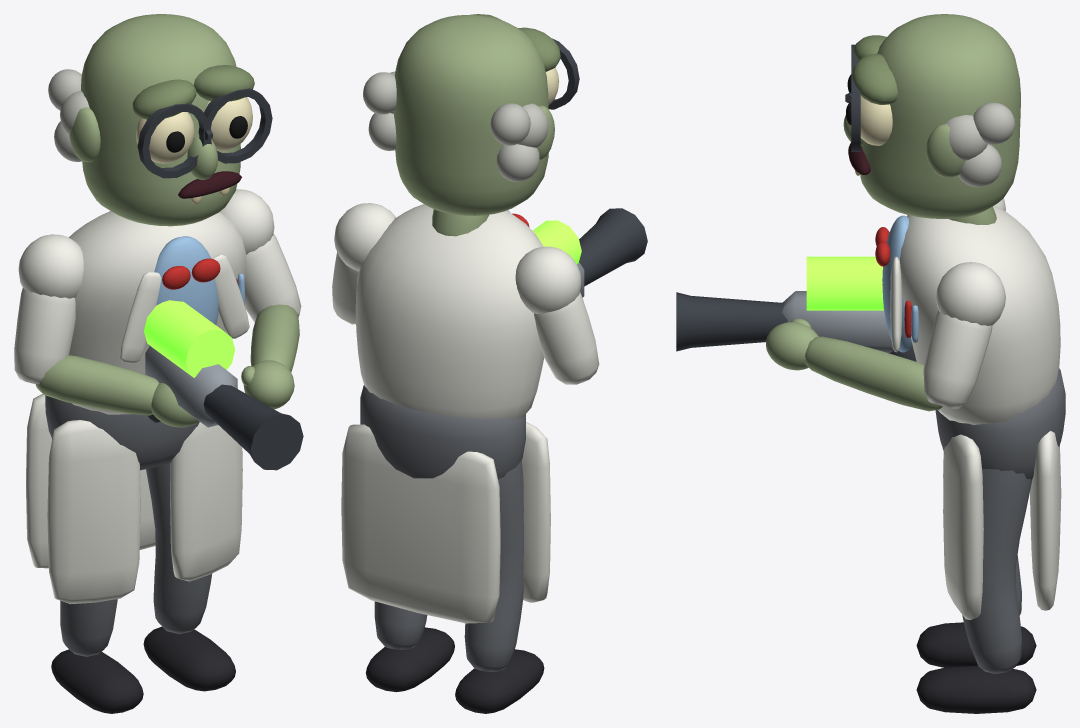
The model's file is scientist.glb.
3 renders of one model, left to right at view 1: azimuth 30°, elevation 25°; view 2: azimuth 150°, elevation 25°; view 3: azimuth 270°, elevation 25°, orthographic. The views are drawn at different scales.
Parts seen in each view (by area): view 1: Coat, Head, ArmR, Weapon, Torso, ArmL, LegL, Shirt, LegR, Hips, Glasses, Hair; view 2: Torso, Coat, Head, LegR, Hips, ArmR, Hair, LegL, Weapon, ArmL, Glasses; view 3: Head, Torso, ArmL, LegL, Weapon, Coat, Hips, Hair, Shirt, LegR, Glasses.
Part boxes in pixels (x1,y1,x2,y2): Coat: (26,388,242,604); Head: (69,14,254,226); ArmR: (14,234,198,427); Weapon: (144,300,303,470); Torso: (69,211,246,414); ArmL: (220,189,301,409); LegL: (143,462,235,691); Shirt: (119,236,249,363); LegR: (51,436,143,713); Hips: (45,395,199,470); Glasses: (137,88,272,178); Hair: (48,69,89,161); Torso: (355,204,544,420); Coat: (341,422,550,623); Head: (393,14,560,215); LegR: (455,460,544,713); Hips: (360,385,525,478); ArmR: (515,246,599,384); Hair: (363,71,548,181); LegL: (366,601,454,692); Weapon: (532,208,647,297); ArmL: (332,203,396,324); Glasses: (548,38,579,109); Head: (843,14,1020,218); Torso: (899,205,1060,424); ArmL: (766,262,1005,411); LegL: (916,468,1036,713); Weapon: (676,256,916,361); Coat: (943,431,1061,619); Hips: (935,368,1065,480); Hair: (946,48,1015,187); Shirt: (875,215,918,352); LegR: (916,555,1036,667); Glasses: (845,44,860,151).
Bounding box in the file's own units: 0.8332 × 1.96 × 1.04.
